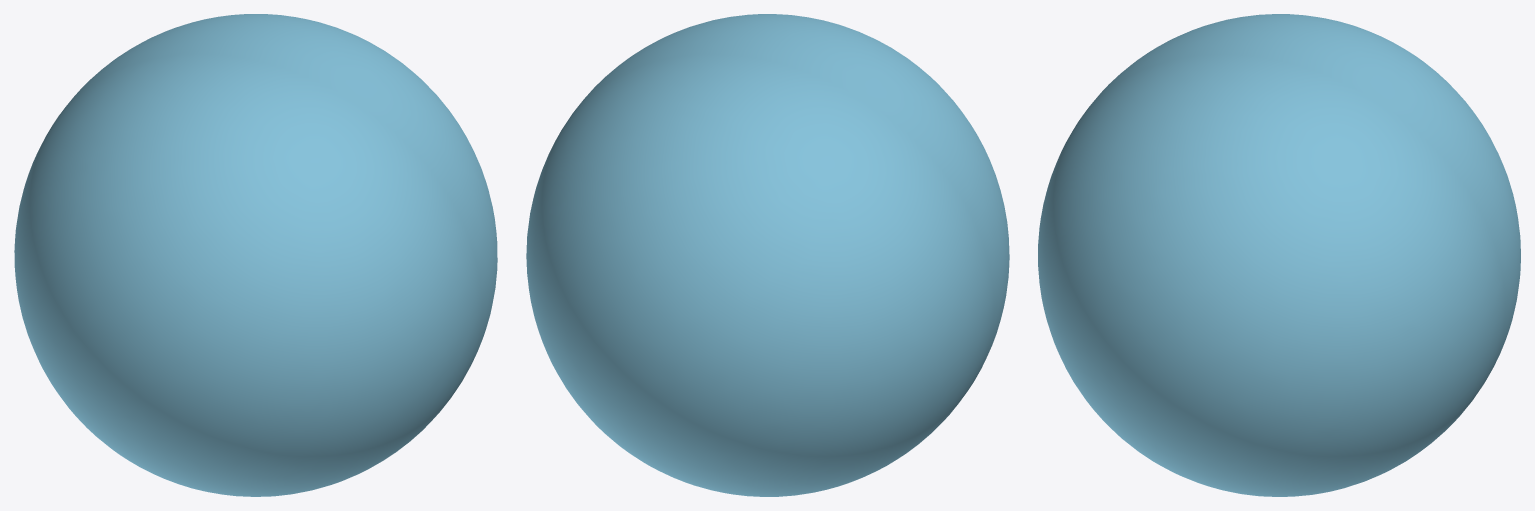
File: holo.obj
The picture shows the model from 3 angles, left to right: view 1: azimuth 30°, elevation 25°; view 2: azimuth 150°, elevation 25°; view 3: azimuth 270°, elevation 25°; orthographic projection.
Size of the model in its own units: 4 by 4 by 4.
